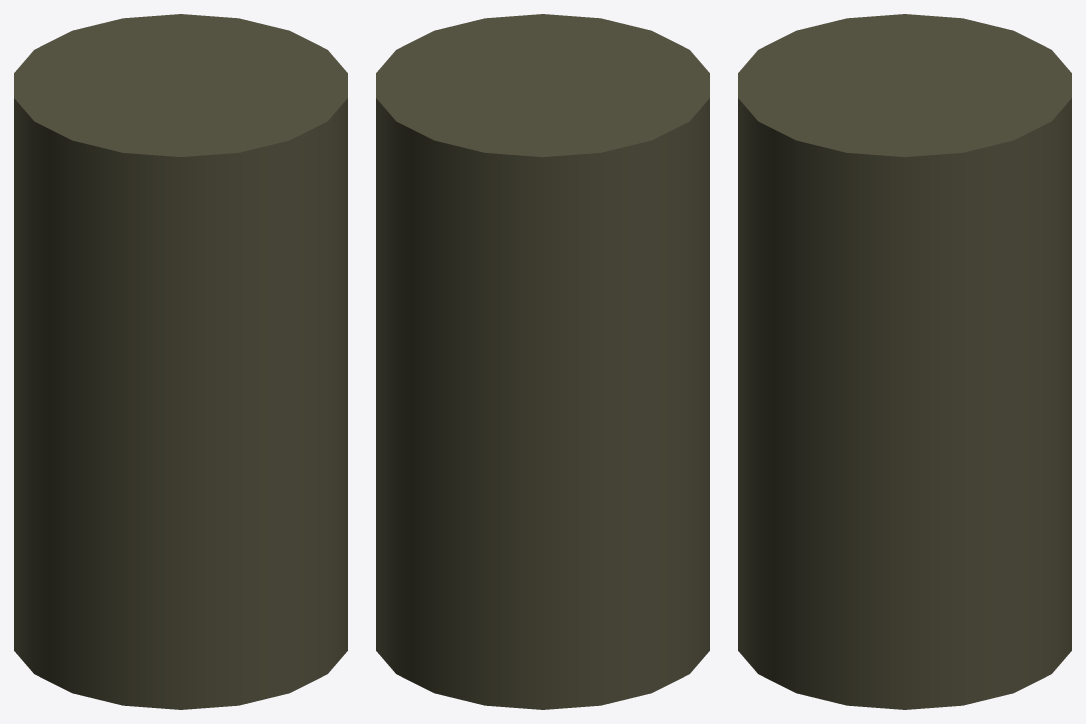
File: columna.DAE
3 renders of one model, left to right at view 1: azimuth 30°, elevation 25°; view 2: azimuth 150°, elevation 25°; view 3: azimuth 270°, elevation 25°, orthographic.
Visible parts, largest first — view 1: columna; view 2: columna; view 3: columna.
Boxes of the visible parts, x1,y1,x2,y2 form: columna: (14, 14, 347, 709); columna: (376, 14, 709, 709); columna: (738, 14, 1071, 709).
Bounding box in the file's own units: 150 × 270 × 148.
